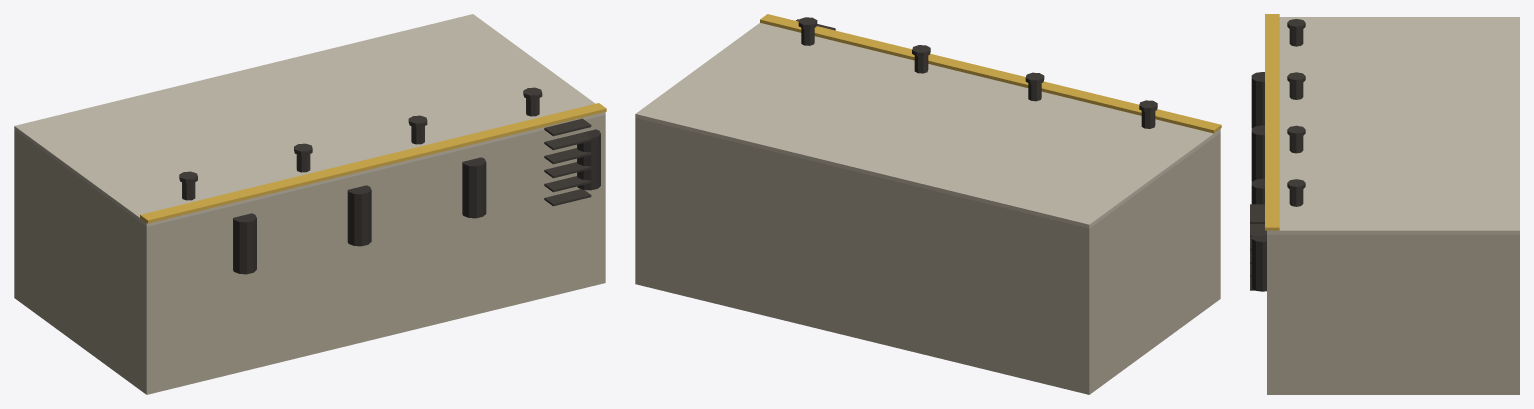
Rendered from rihtim.glb.
3 renders of one model, left to right at view 1: azimuth 30°, elevation 25°; view 2: azimuth 150°, elevation 25°; view 3: azimuth 270°, elevation 25°, orthographic. The views are drawn at different scales.
Visible parts, largest first — view 1: beton2, beton, kauçuk, tekne_sari, demir; view 2: beton2, beton, tekne_sari, demir; view 3: beton, beton2, tekne_sari, kauçuk, demir.
Part boxes in pixels (left/top/right/bottom): beton2: left=14, top=115, right=605, bottom=394; beton: left=14, top=14, right=605, bottom=226; kauçuk: left=233, top=129, right=600, bottom=274; tekne_sari: left=140, top=103, right=606, bottom=223; demir: left=179, top=87, right=591, bottom=206; beton2: left=635, top=118, right=1220, bottom=394; beton: left=635, top=23, right=1220, bottom=228; tekne_sari: left=760, top=14, right=1221, bottom=133; demir: left=796, top=17, right=1157, bottom=128; beton: left=1267, top=17, right=1519, bottom=234; beton2: left=1267, top=234, right=1519, bottom=394; tekne_sari: left=1265, top=14, right=1279, bottom=230; kauçuk: left=1251, top=72, right=1266, bottom=291; demir: left=1250, top=19, right=1305, bottom=290.
Size of the model in its own units: 12 by 4.85 by 6.4.
